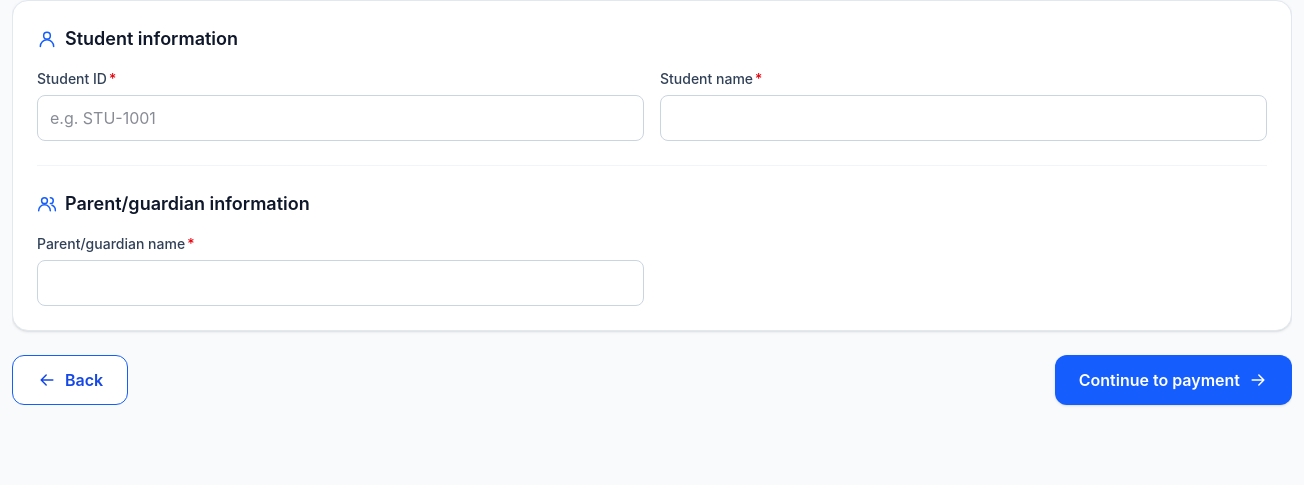
RegisterForm › shows the right message when the student can't be registered (other_school)
The width and height of the screenshot is (1304, 485).
Type "STU-1001" into the field labelled "Student ID" at [340, 118], box [37,95,644,141]
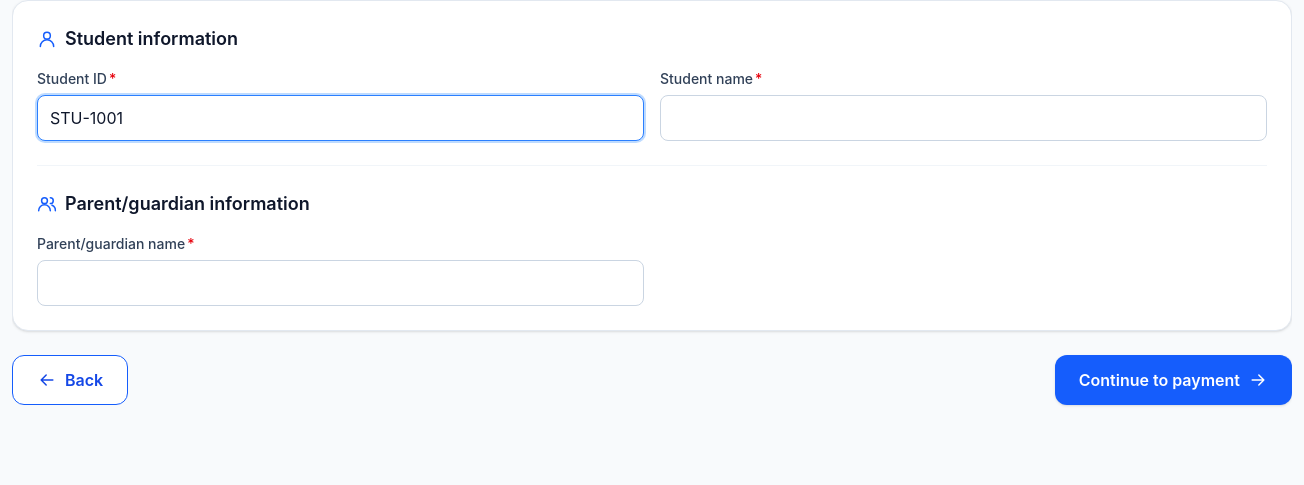
Type "Mia Smith" into the field labelled "Student name" at [964, 118], box [660,95,1267,141]
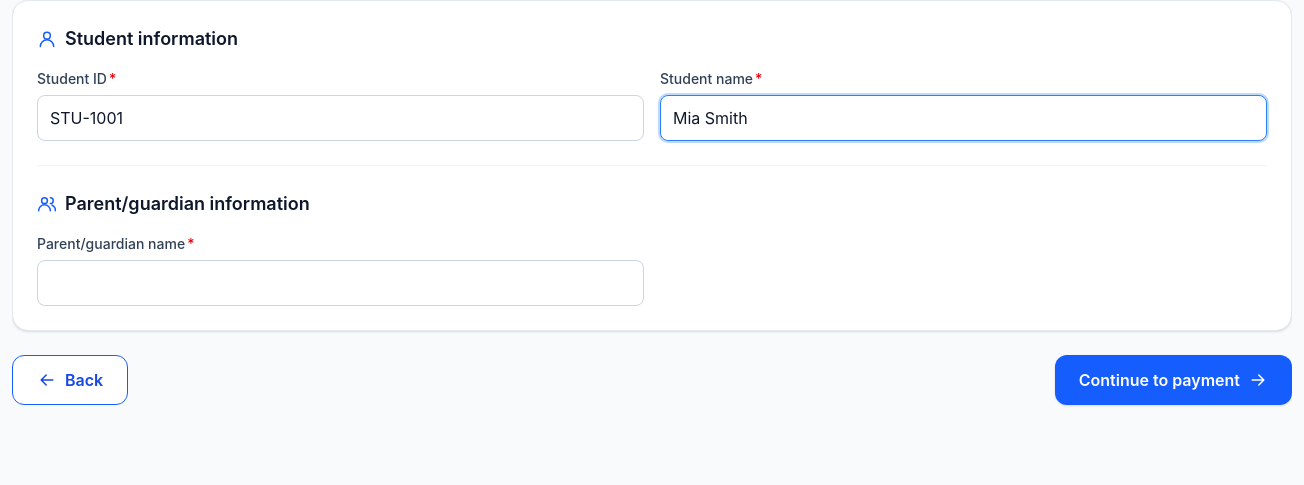
Type "Jane Smith" into the field labelled "Parent/guardian name" at [340, 283], box [37,260,644,306]
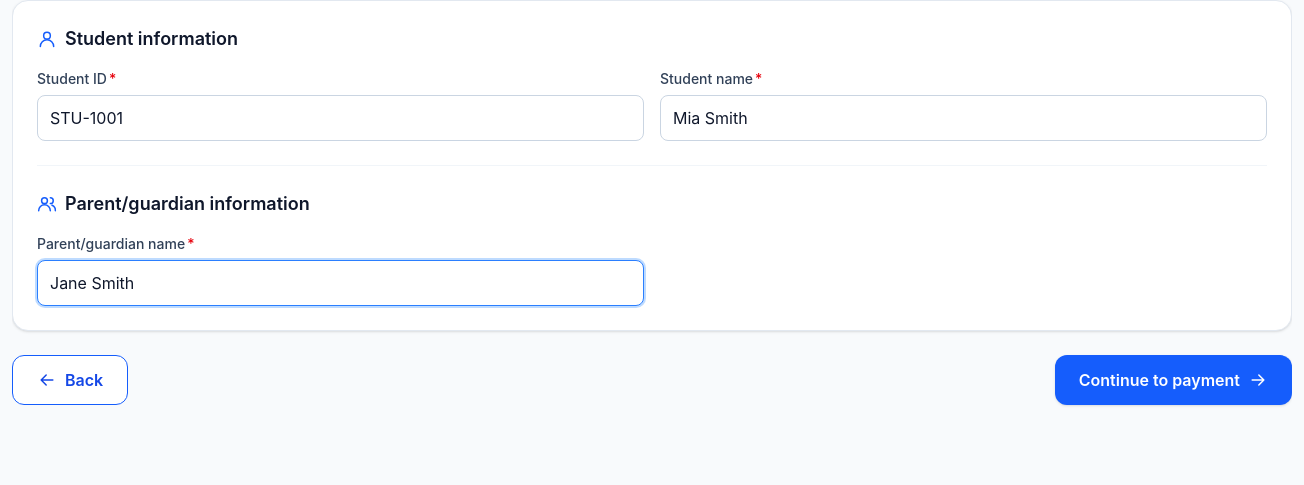
Click the button "Continue to payment" at [1173, 380], box [1055,355,1292,405]
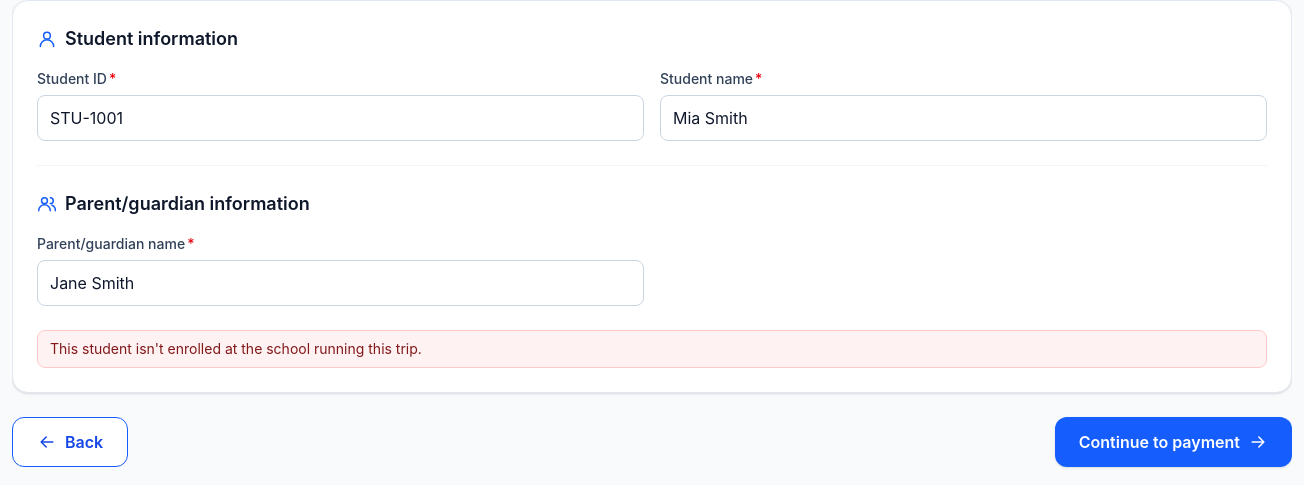
expect the message reads "This student isn't enrolled at the school running this trip.": met, box [50,340,422,357]
